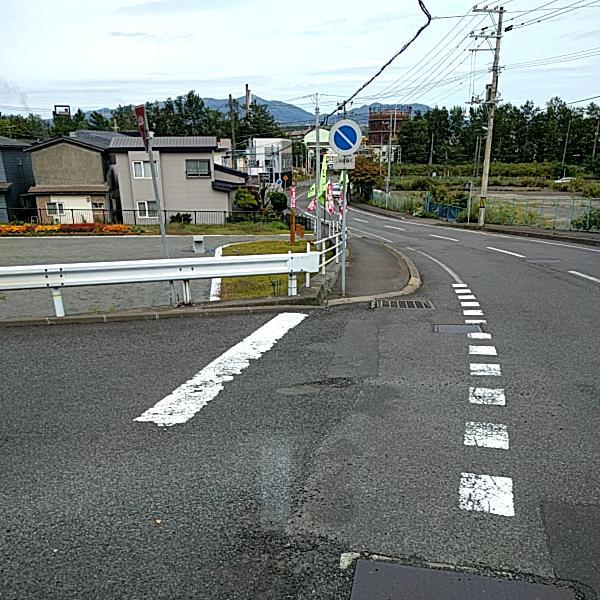D40: (268, 373, 364, 396)
D44: (439, 347, 525, 533)
D50: (432, 321, 482, 335), (522, 253, 560, 263)
